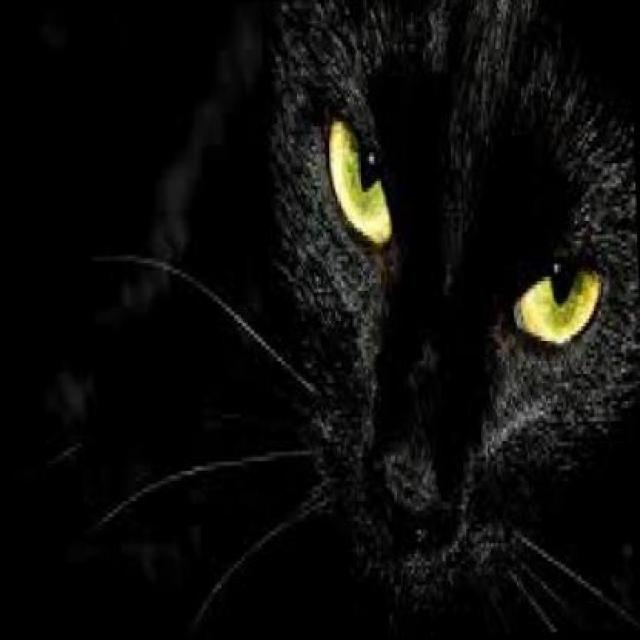animals: (141, 0, 638, 638)
